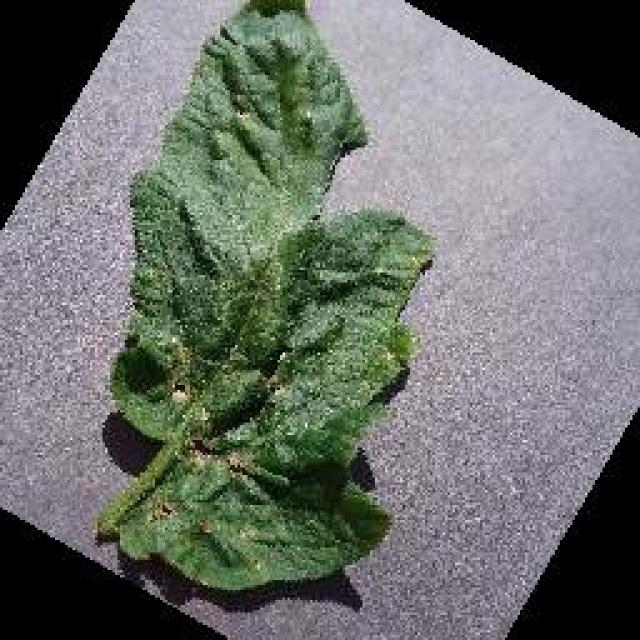Tomato___Target_Spot: (98, 0, 430, 590)
